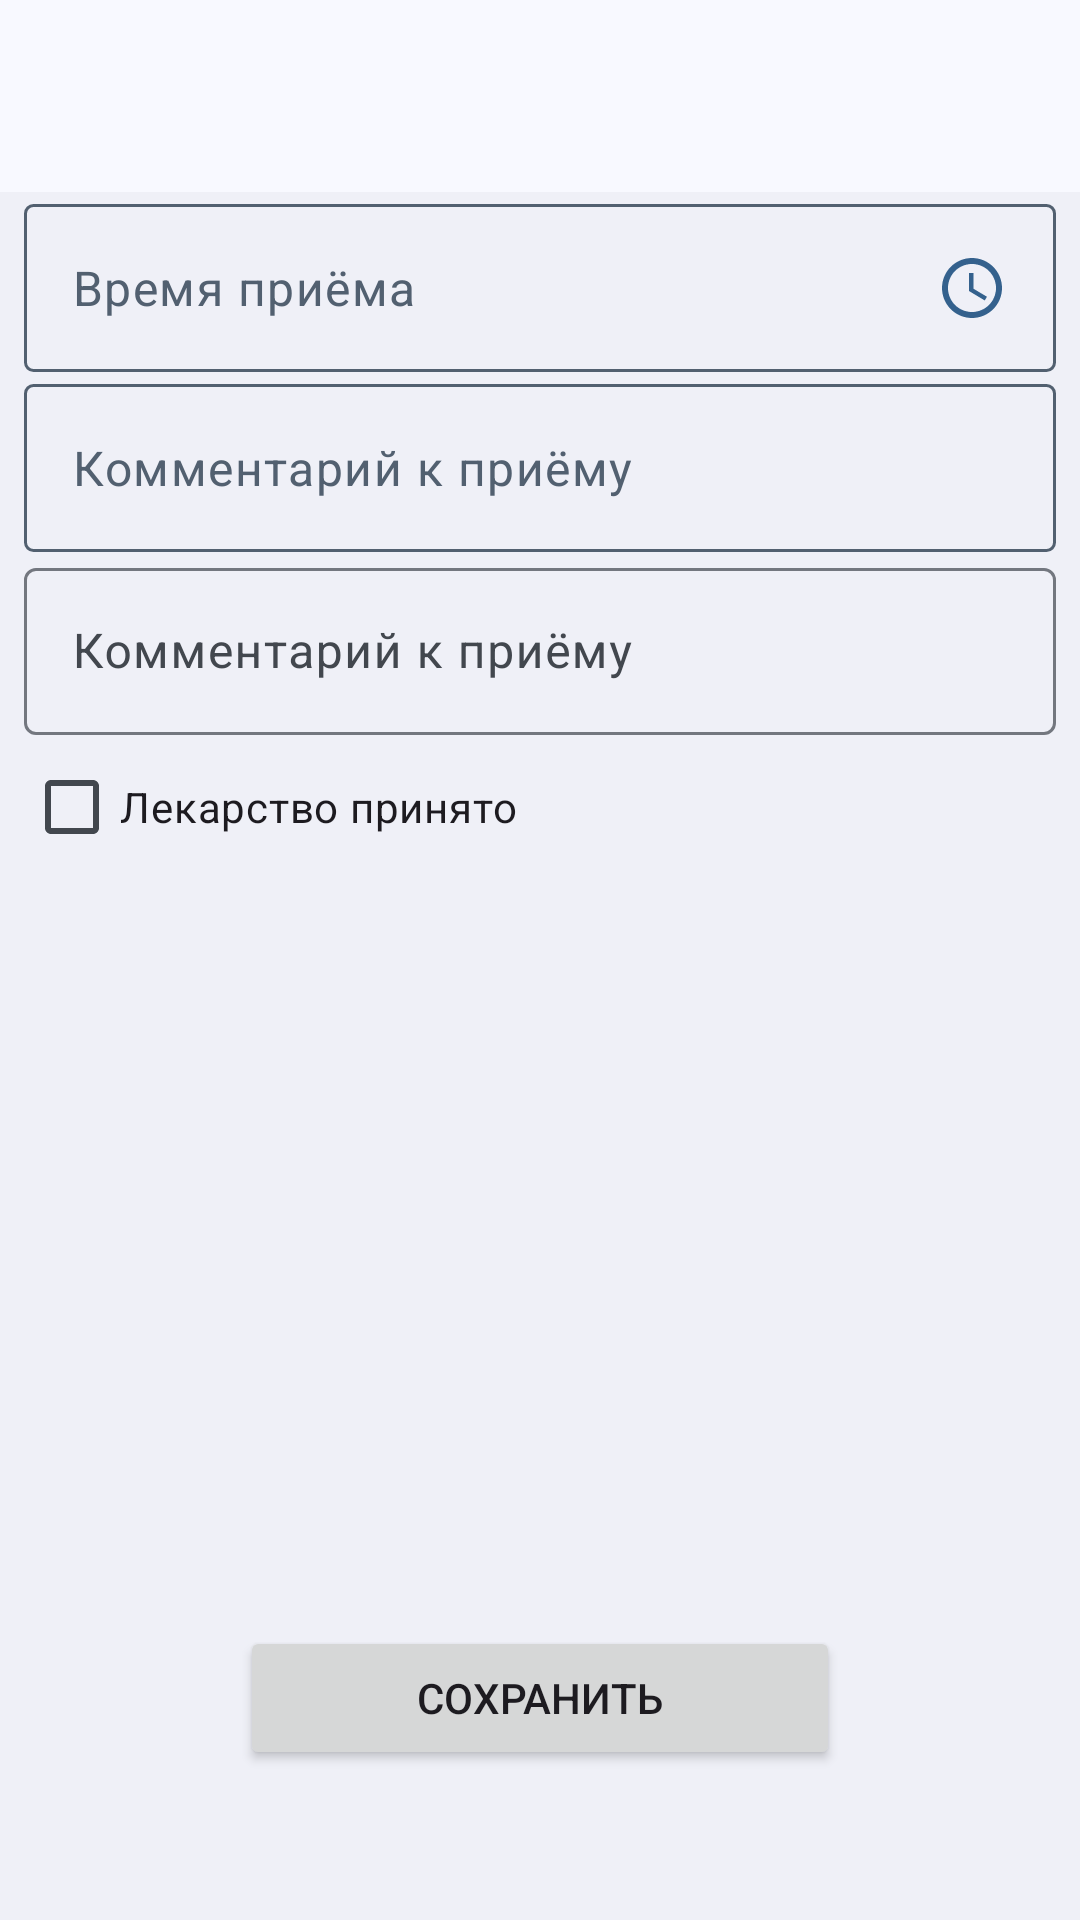

Screen size 1080*1920. Icon name, then its center in pixels as (x=x, y=y):
schedule: (x=972, y=288)
